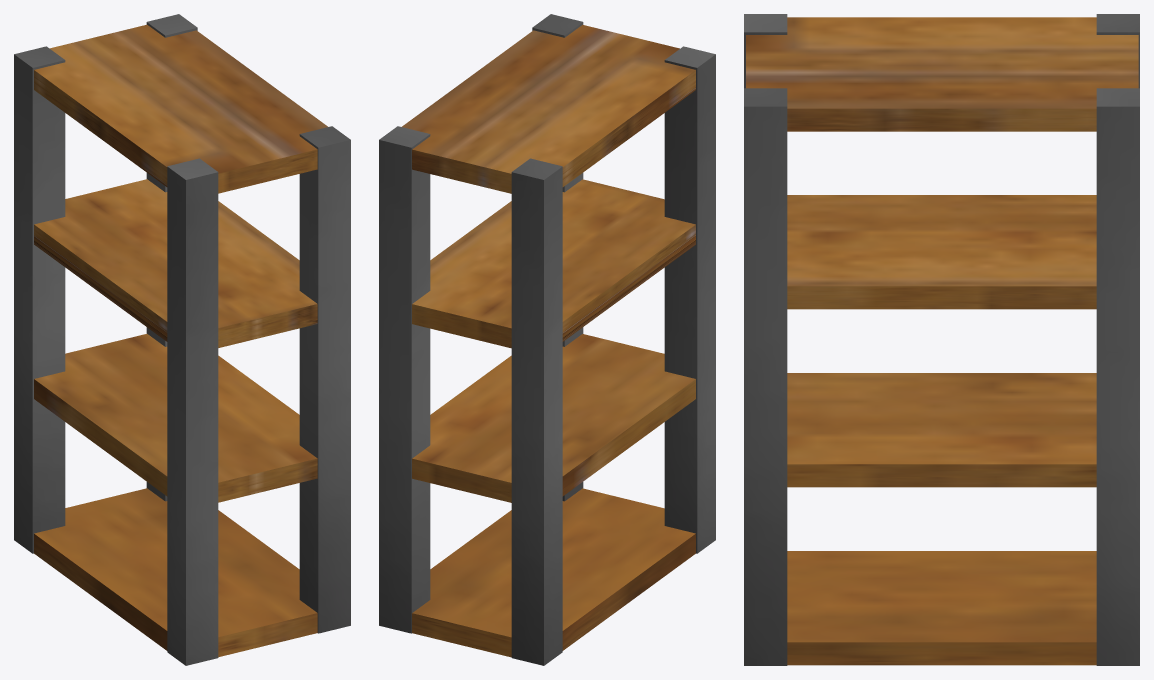
Rendered from shelf.fbx.
3 renders of one model, left to right at view 1: azimuth 30°, elevation 25°; view 2: azimuth 150°, elevation 25°; view 3: azimuth 270°, elevation 25°, orthographic. The views are drawn at different scales.
Parts seen in each view (by area): view 1: Cube.002, Cube.007, Cube.006, Cube, Cube.003, Cube.001, Cube.005, Cube.004; view 2: Cube.002, Cube.005, Cube.004, Cube, Cube.003, Cube.001, Cube.007, Cube.006; view 3: Cube.002, Cube, Cube.001, Cube.003, Cube.004, Cube.006, Cube.007, Cube.005.
Part boxes in pixels (x1,y1,x2,y2): Cube.002: [34, 24, 327, 193]; Cube.007: [167, 158, 218, 665]; Cube.006: [299, 126, 350, 633]; Cube: [34, 334, 317, 502]; Cube.003: [34, 488, 317, 657]; Cube.001: [34, 179, 317, 347]; Cube.005: [14, 46, 65, 553]; Cube.004: [146, 14, 197, 501]; Cube.002: [402, 25, 695, 193]; Cube.005: [511, 158, 562, 665]; Cube.004: [379, 126, 430, 633]; Cube: [412, 334, 695, 502]; Cube.003: [412, 488, 695, 657]; Cube.001: [412, 179, 695, 348]; Cube.007: [664, 46, 715, 553]; Cube.006: [532, 14, 583, 501]; Cube.002: [746, 17, 1138, 131]; Cube: [787, 373, 1096, 487]; Cube.001: [787, 195, 1096, 309]; Cube.003: [787, 551, 1096, 665]; Cube.004: [1096, 88, 1139, 665]; Cube.006: [744, 88, 787, 665]; Cube.007: [744, 14, 787, 88]; Cube.005: [1096, 14, 1139, 88].
Bounding box in the file's own units: 1.12 × 3.14 × 2.02.
